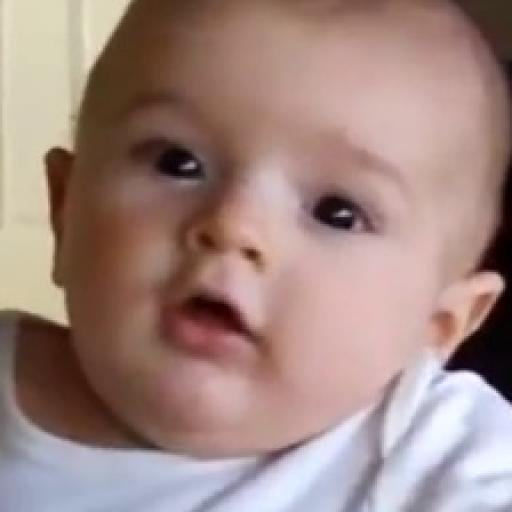Autism: (107, 7, 495, 455)
